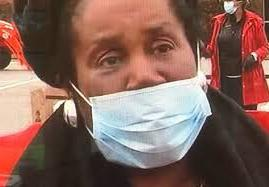mask_weared_incorrect: (78, 30, 198, 164)
